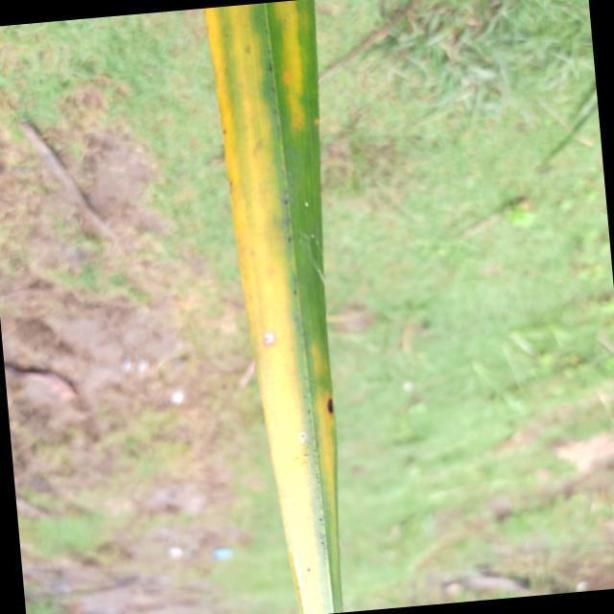Megnesium: (203, 0, 339, 614)
